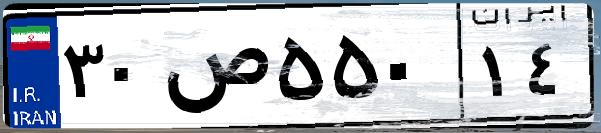0: (385, 28, 445, 110), (110, 28, 158, 98)
1: (475, 38, 525, 113)
3: (57, 26, 110, 100)
4: (525, 38, 570, 115)
5: (270, 28, 330, 110), (330, 28, 385, 110)
ص: (158, 20, 270, 120)
